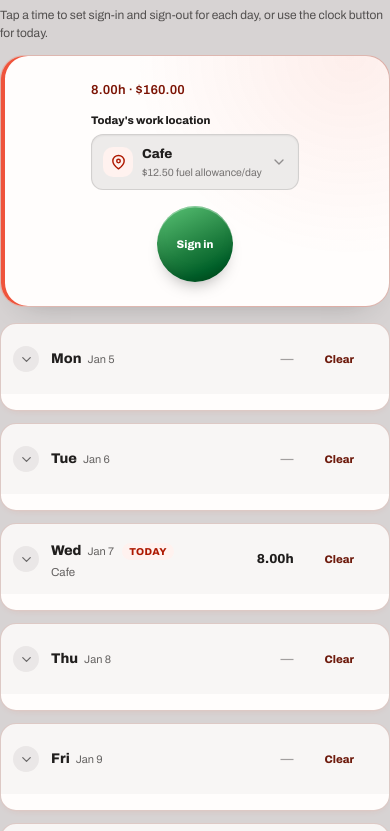
Scenario: Entry screen — day accordion structure and keyboard behavior › uses the prior week's persisted branch as a suggestion without creating an unsaved shift
Click the button with class "day-row-toggle" showing "Thu Jan 8": x=141, y=659 [13,646,269,672]
(page scrolled)
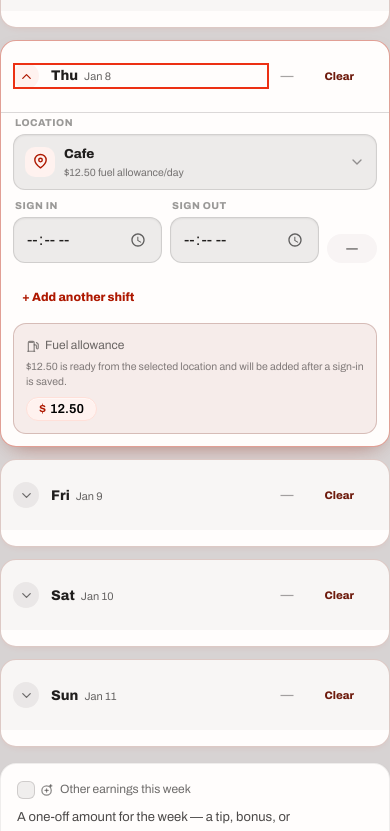
Expected: the button with aria-label "Location for Thu Jan 8: Cafe" shows "Cafe", [13,134,377,190]
Expected: the text "$12.50 is ready from the selected location" is shown, [26,361,364,387]
Expected: the button "$ 12.50" is shown
Click the button "$ 12.50": x=62, y=409 [26,397,97,421]
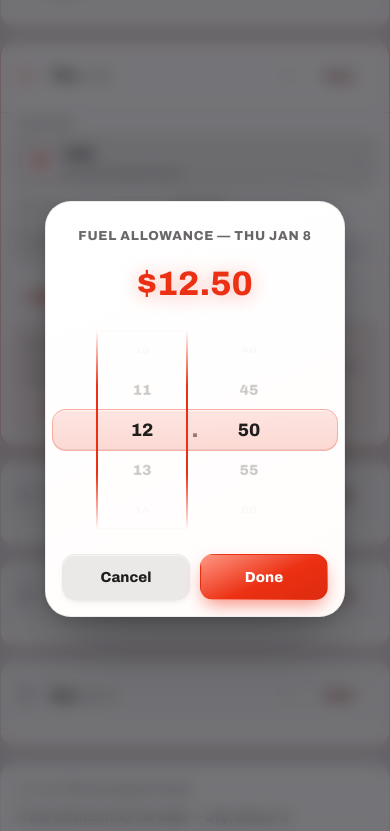
Expected: the text "$12.50" is shown, [137,258,253,310]
Click the button "Cancel": x=126, y=577 [62,554,190,600]
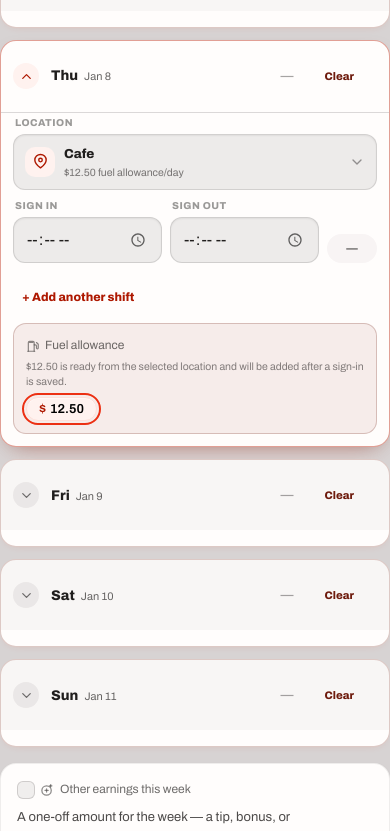
Click the button with aria-label "Location for Thu Jan 8: Cafe": x=79, y=154 [13,134,377,190]
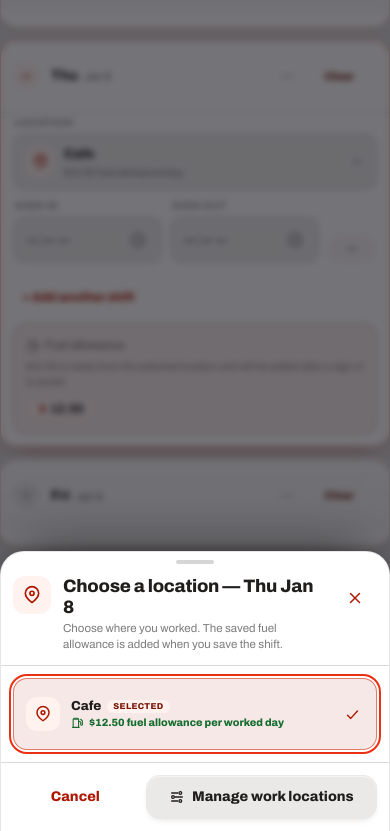
Expected: the text "$12.50 fuel allowance per worked day" is shown, [71,716,284,729]
